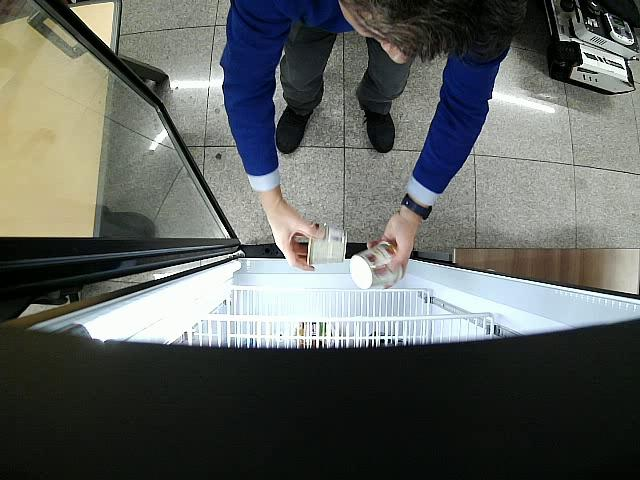00_hand: (265, 202, 325, 271), (367, 213, 416, 278)
04_chapagetti_S: (350, 239, 403, 289), (307, 223, 347, 266)
